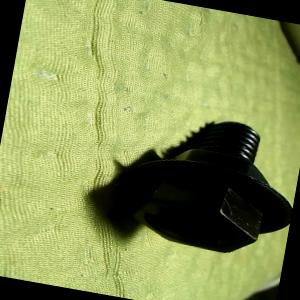parafuso: (121, 103, 300, 261)
